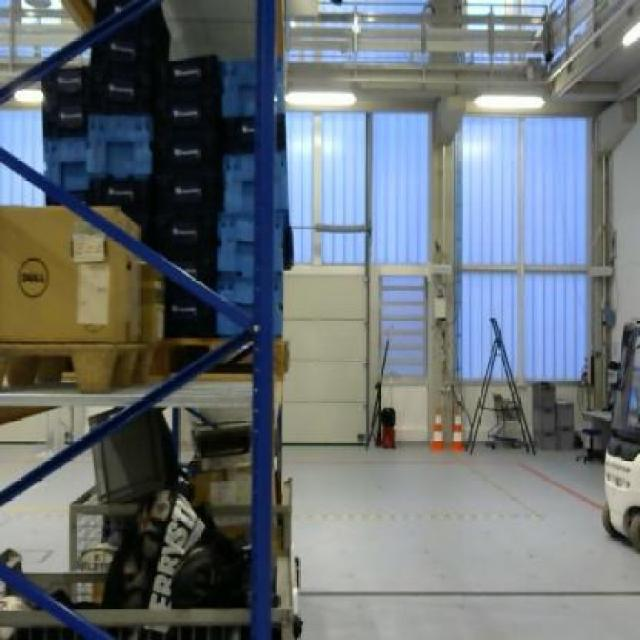box: (0, 201, 142, 344)
